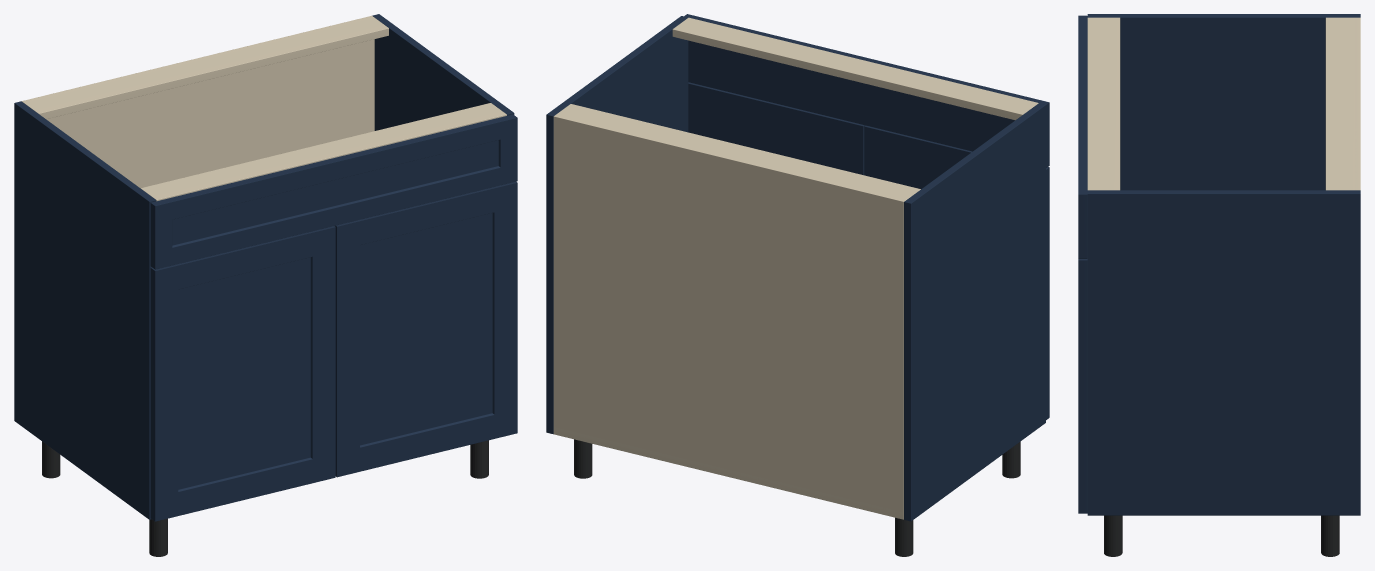
Rendered from oppein-ply-bss-sb36.glb.
3 views of the same model, side by side, from view 1: azimuth 30°, elevation 25°; view 2: azimuth 150°, elevation 25°; view 3: azimuth 270°, elevation 25° (orthographic).
Parts seen in each view (by area): view 1: Door, Door.001, Cabinet side, Cabinet back, False drawer front, Top support rail, Cabinet side.001, Top support rail.001, Adjustable foot.001, Adjustable foot.003; view 2: Cabinet back, Cabinet side, False drawer front, Cabinet side.001, Door.001, Top support rail.001, Door, Top support rail, Cabinet bottom, Adjustable foot, Adjustable foot.002; view 3: Cabinet side.001, Cabinet side, Top support rail.001, Top support rail, Door.001, False drawer front, Cabinet back, Adjustable foot.003, Adjustable foot.002.
Boxes of the visible parts, x1,y1,x2,y2 form: Door: (150,226,335,521); Door.001: (335,181,517,477); Cabinet side: (14,101,156,519); Cabinet back: (21,15,374,188); False drawer front: (150,114,517,269); Top support rail: (23,17,388,119); Cabinet side.001: (372,14,514,130); Top support rail.001: (141,103,506,201); Adjustable foot.001: (149,518,167,556); Adjustable foot.003: (470,440,488,478); Cabinet back: (553,114,905,519); Cabinet side: (904,103,1045,521); False drawer front: (684,14,1049,167); Cabinet side.001: (546,16,688,434); Door.001: (688,82,865,175); Top support rail.001: (672,17,1038,120); Door: (864,125,1049,419); Top support rail: (556,104,920,199); Cabinet bottom: (553,427,903,518); Adjustable foot: (895,517,913,556); Adjustable foot.002: (574,439,592,478); Cabinet side.001: (1087,190,1360,515); Cabinet side: (1087,14,1360,190); Top support rail.001: (1087,17,1120,190); Top support rail: (1325,17,1357,190); Door.001: (1078,259,1087,513); False drawer front: (1078,15,1087,258); Cabinet back: (1355,17,1360,190); Adjustable foot.003: (1104,515,1122,556); Adjustable foot.002: (1321,515,1339,556).
Size of the model in its own units: 0.9144 by 0.8763 by 0.6064.
